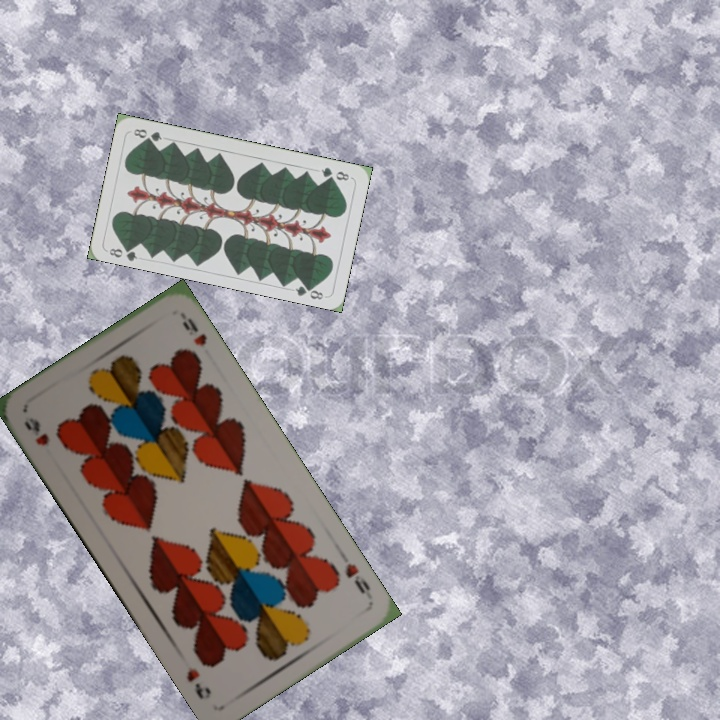G8: (105, 241, 140, 263), (317, 163, 352, 183)
H9: (341, 559, 373, 597), (20, 413, 52, 449)
